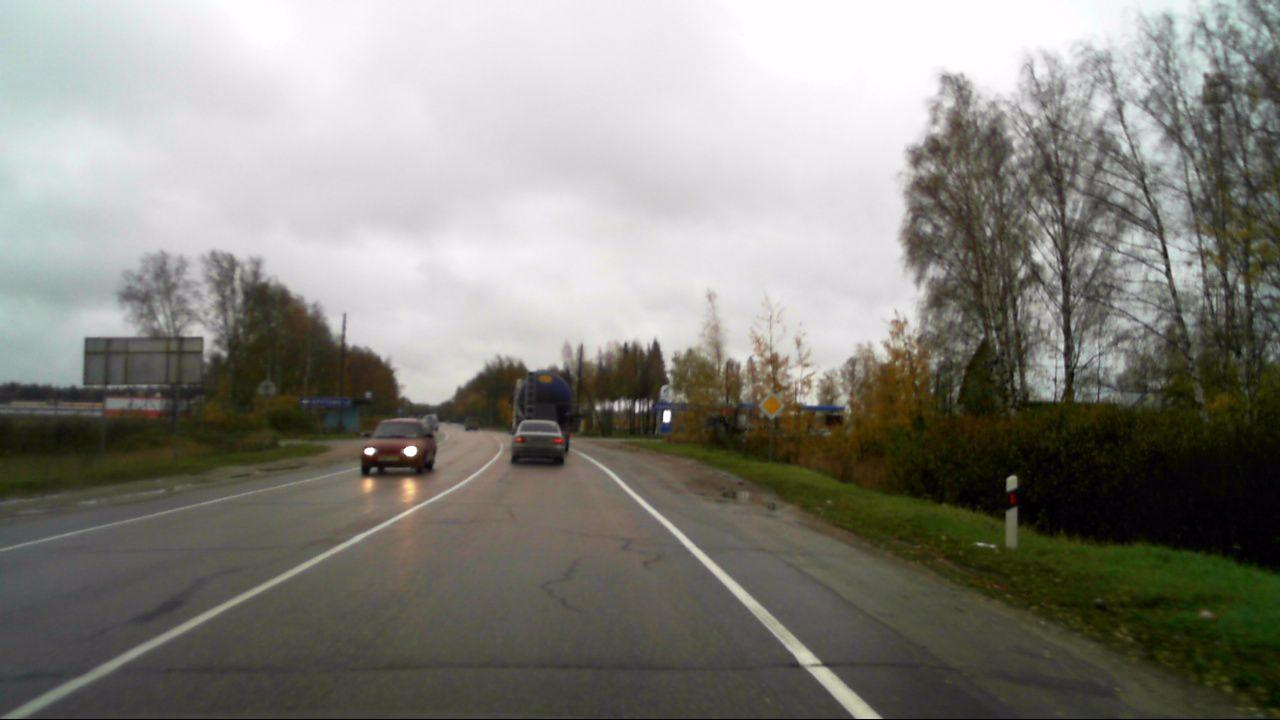2_1: (754, 390, 785, 423)
